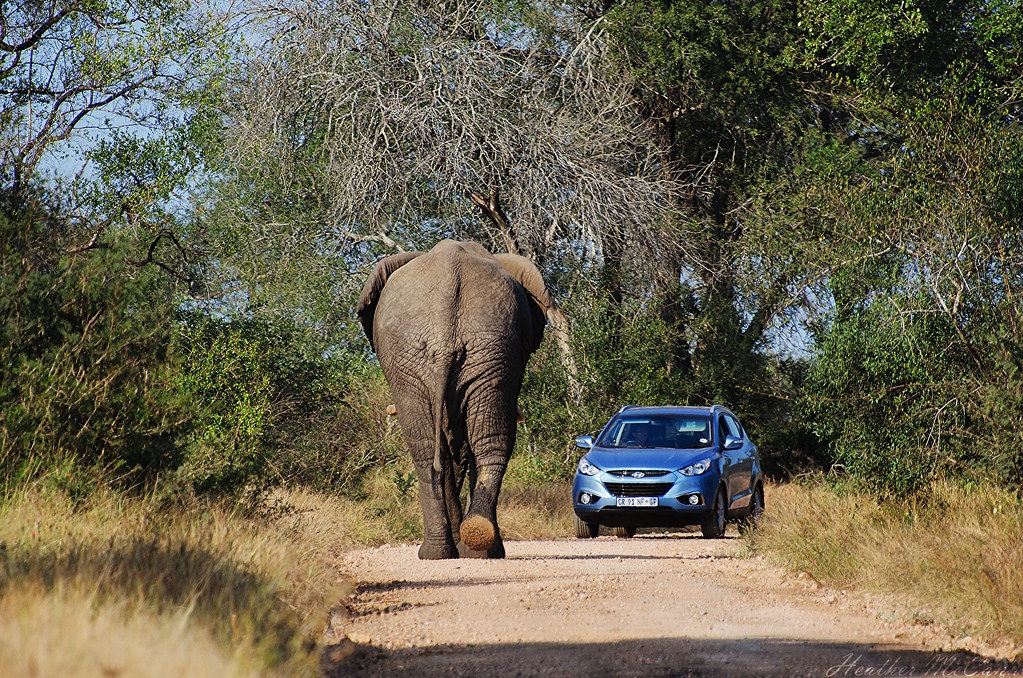elephant: (352, 236, 552, 562)
